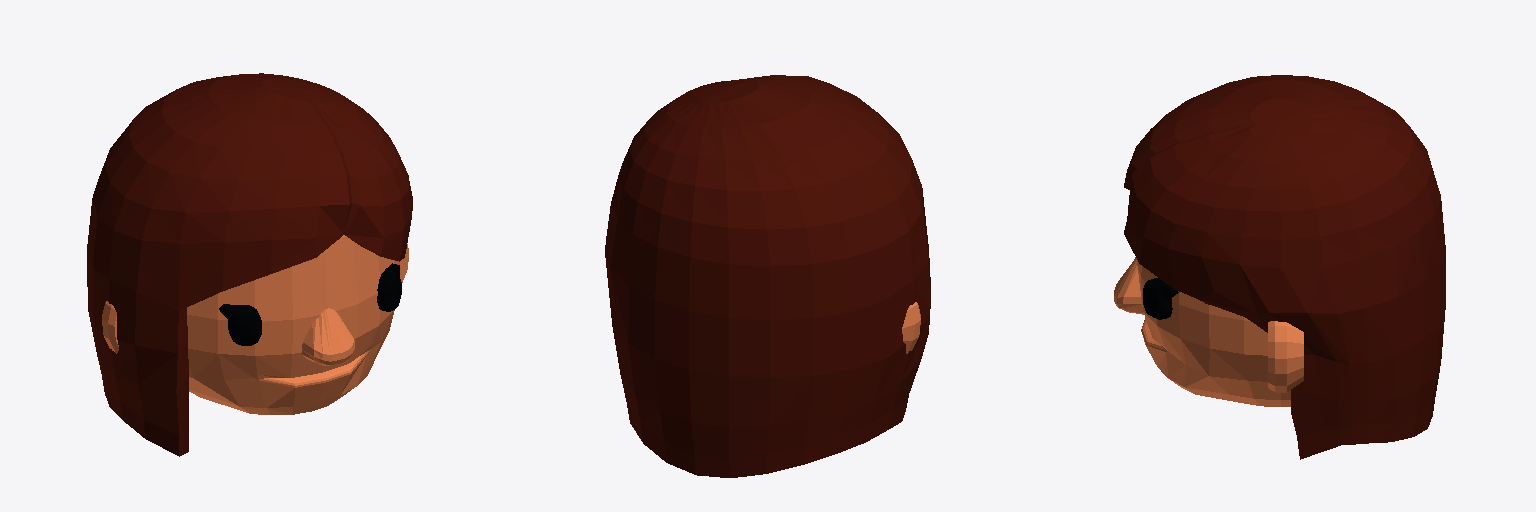
Rendered from character_rogueHead.obj.
3 renders of one model, left to right at view 1: azimuth 30°, elevation 25°; view 2: azimuth 150°, elevation 25°; view 3: azimuth 270°, elevation 25°, orthographic.
Parts seen in each view (by area): view 1: character_rogueHair_Cube.018, character_rogueHead_Cube.019; view 2: character_rogueHair_Cube.018, character_rogueHead_Cube.019; view 3: character_rogueHair_Cube.018, character_rogueHead_Cube.019.
Boxes of the visible parts, <box> form: character_rogueHair_Cube.018: <box>87,73,412,456</box>; character_rogueHead_Cube.019: <box>102,235,408,414</box>; character_rogueHair_Cube.018: <box>605,75,930,477</box>; character_rogueHead_Cube.019: <box>902,302,920,353</box>; character_rogueHair_Cube.018: <box>1124,75,1445,459</box>; character_rogueHead_Cube.019: <box>1114,257,1303,406</box>.
Size of the model in its own units: 1.18 by 1.22 by 1.12.